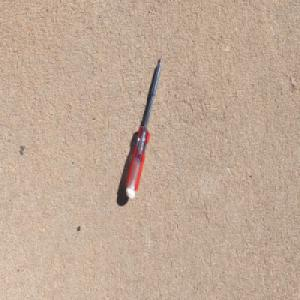Screwdriver: (124, 54, 163, 201)
